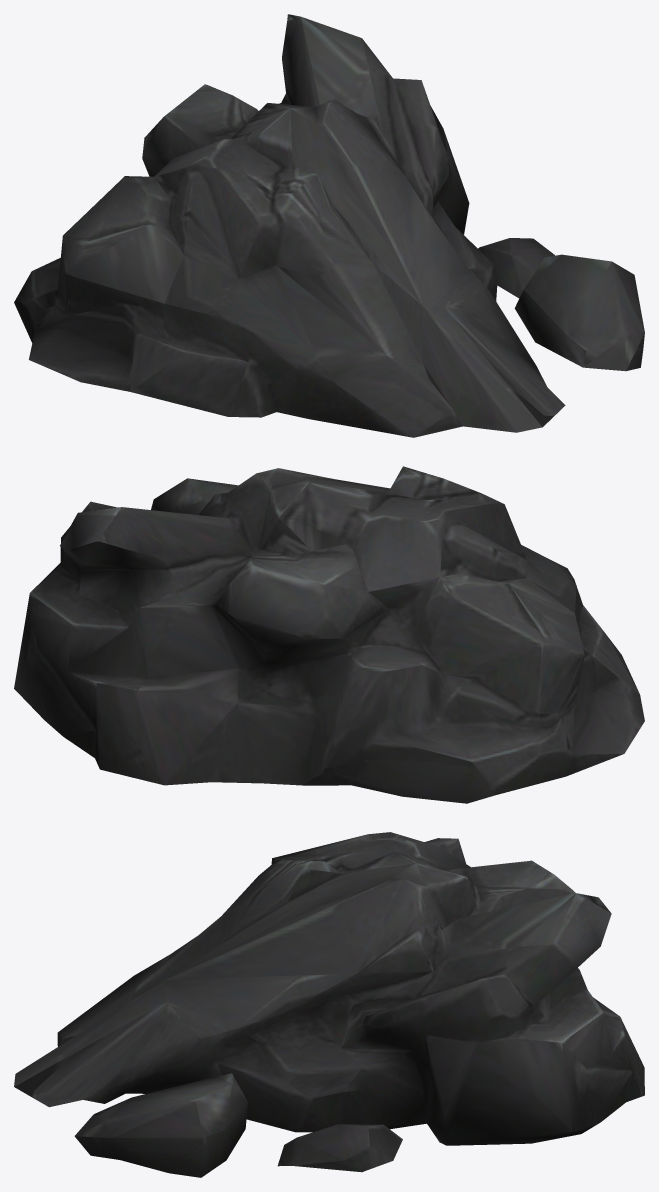
Rendered from moba_st_02.FBX.
3 renders of one model, top to bottom at view 1: azimuth 30°, elevation 25°; view 2: azimuth 150°, elevation 25°; view 3: azimuth 270°, elevation 25°, orthographic. The views are drawn at different scales.
Parts seen in each view (by area): view 1: Object012; view 2: Object012; view 3: Object012.
Boxes of the visible parts, left/top/right/bottom form: Object012: left=14, top=14, right=644, bottom=437; Object012: left=14, top=466, right=644, bottom=803; Object012: left=14, top=832, right=644, bottom=1177.
Bounding box in the file's own units: 48.83 × 18.9 × 50.45.
